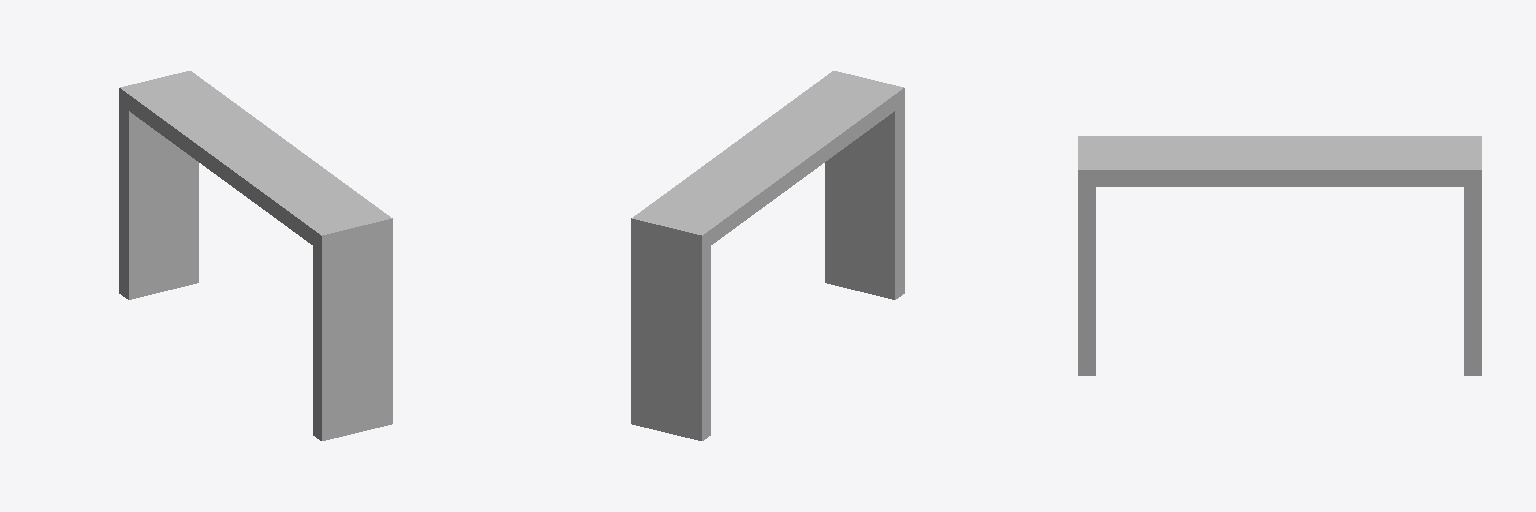
Rendered from FireplaceFrame.obj.
3 renders of one model, left to right at view 1: azimuth 30°, elevation 25°; view 2: azimuth 150°, elevation 25°; view 3: azimuth 270°, elevation 25°, orthographic.
Visible parts, largest first — view 1: FireplaceFrame; view 2: FireplaceFrame; view 3: FireplaceFrame.
Boxes of the visible parts, <box> form: FireplaceFrame: <box>119,71,392,440</box>; FireplaceFrame: <box>631,71,904,440</box>; FireplaceFrame: <box>1078,136,1481,375</box>.
Size of the model in its own units: 0.9 by 2.5 by 4.45.